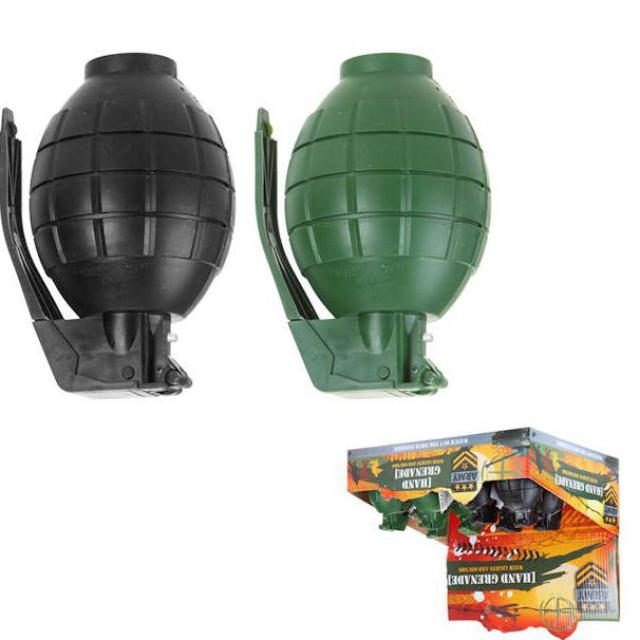grenade: (259, 54, 492, 396), (8, 54, 238, 396)
